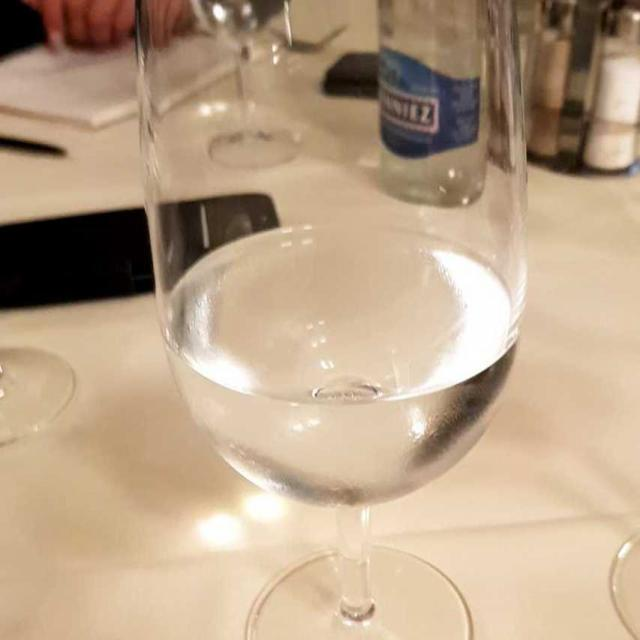water: (177, 225, 507, 500)
